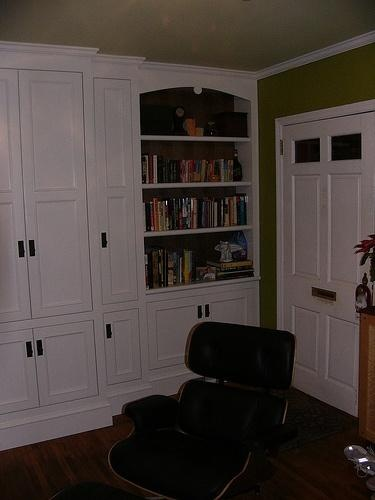chair: (107, 322, 300, 500)
